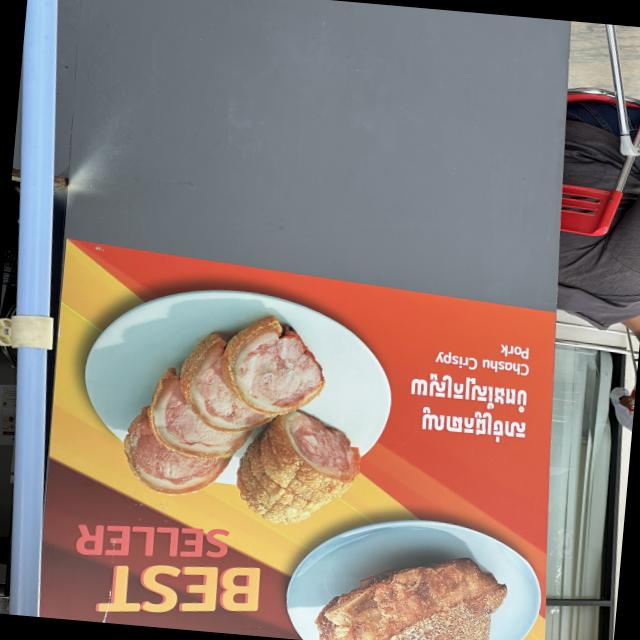Yolov11kh: (398, 368, 539, 414), (413, 400, 540, 448)
